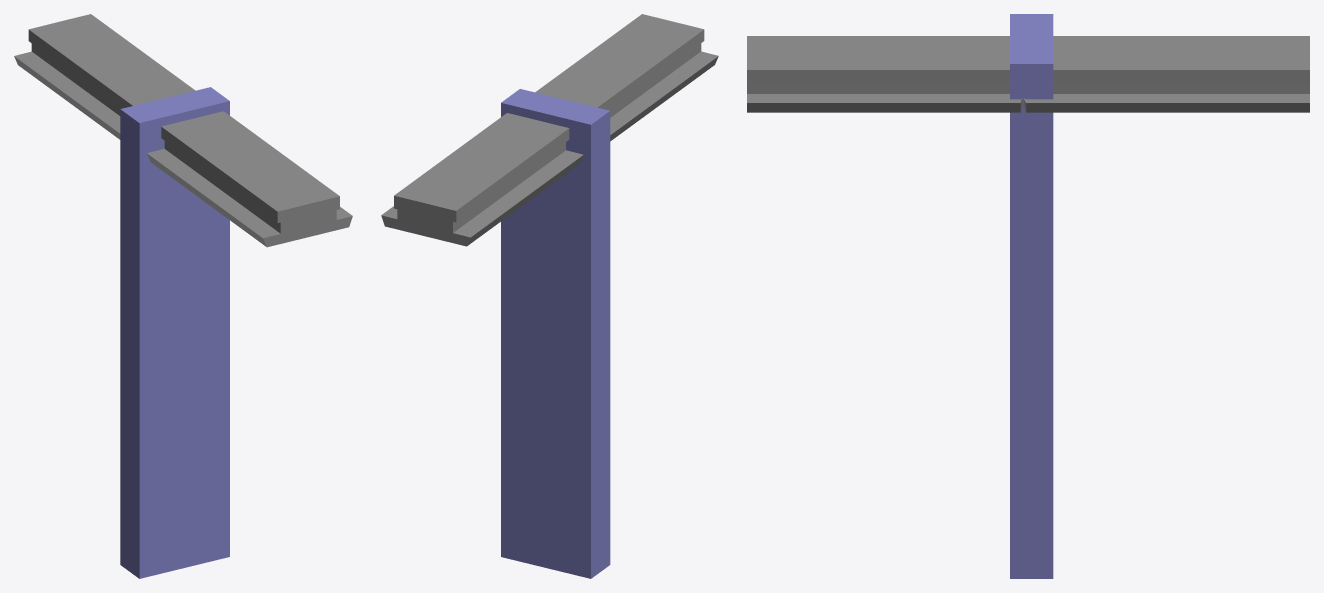
Rendered from ruins_RomanRail_01.glb.
3 renders of one model, left to right at view 1: azimuth 30°, elevation 25°; view 2: azimuth 150°, elevation 25°; view 3: azimuth 270°, elevation 25°, orthographic. The views are drawn at different scales.
Visible parts, largest first — view 1: geometry_0; view 2: geometry_0; view 3: geometry_0.
Boxes of the visible parts, bbox=[...] form: geometry_0: bbox=[14, 14, 352, 578]; geometry_0: bbox=[381, 14, 718, 578]; geometry_0: bbox=[747, 14, 1309, 578].
Size of the model in its own units: 1.91 by 8.58 by 8.5.
